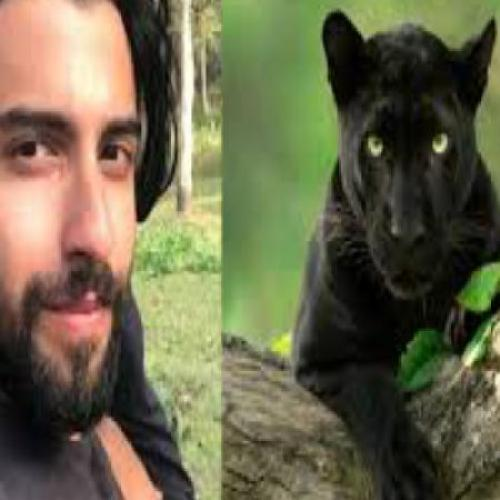panther-endangered: (307, 14, 494, 472)
